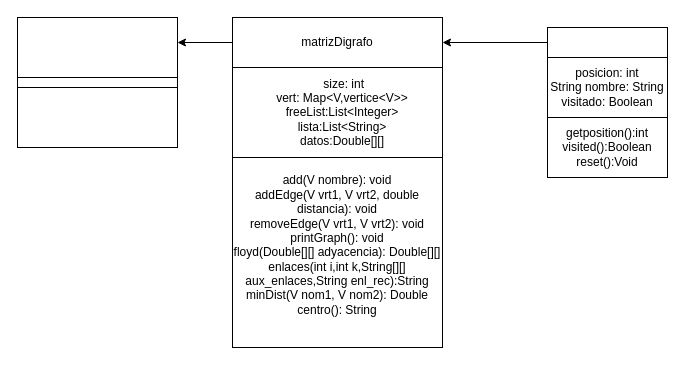
Some shapes in this 685 by 365 pixel diagram are drawn without their labels. Each missing label, with the box of its shape:
leerarchivo():matrizDigrago getsize():int: (16, 86, 178, 148)
Main: (16, 16, 178, 78)
Vértice: (546, 26, 668, 58)
